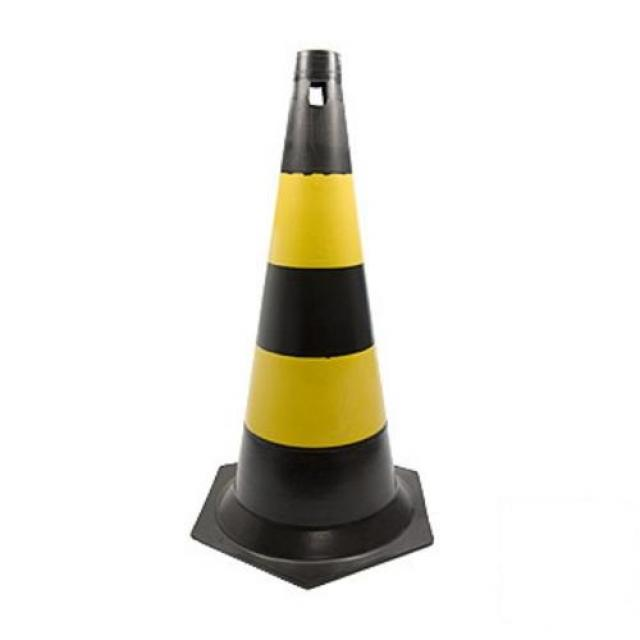cone: (198, 36, 452, 586)
